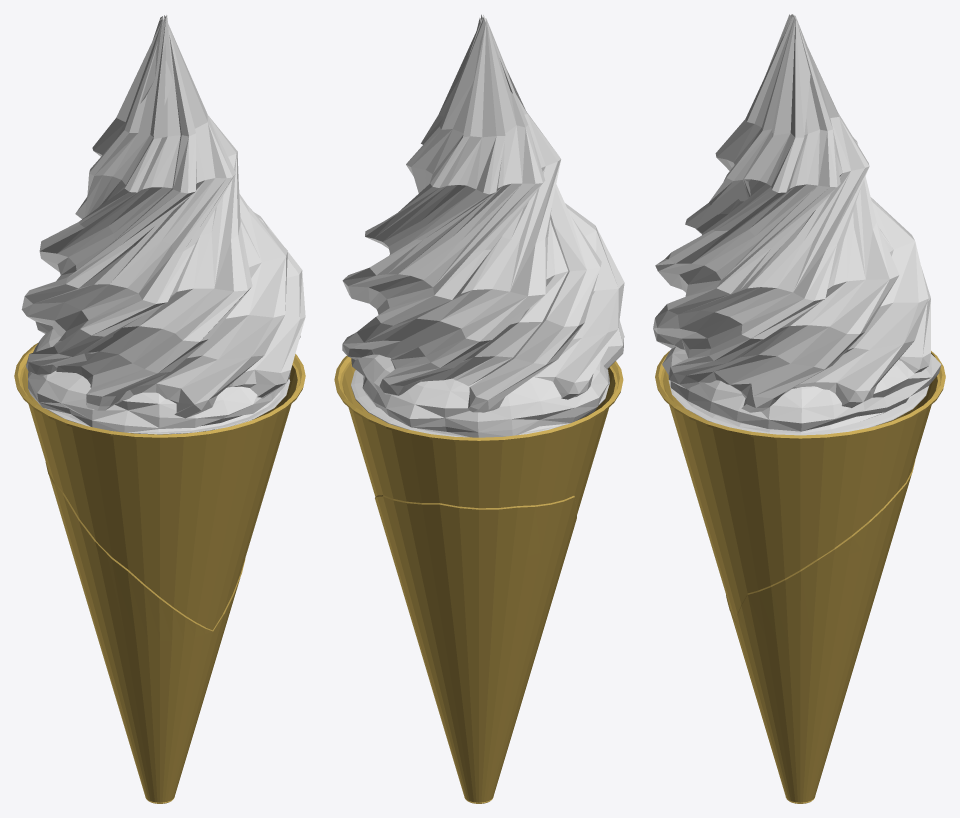
The model's file is Ice Cream.obj.
The picture shows the model from 3 angles, left to right: view 1: azimuth 30°, elevation 25°; view 2: azimuth 150°, elevation 25°; view 3: azimuth 270°, elevation 25°; orthographic projection.
Visible parts, largest first — view 1: Scoop, Cone, cone-01, scoop0; view 2: Scoop, cone-01, Cone, scoop0; view 3: Scoop, Cone, cone-01, scoop0.
Boxes of the visible parts, x1,y1,x2,y2 form: Scoop: (21, 15, 305, 434); Cone: (14, 343, 305, 630); cone-01: (45, 462, 245, 803); scoop0: (28, 329, 290, 434); Scoop: (342, 14, 624, 412); cone-01: (375, 495, 576, 803); Cone: (334, 356, 623, 514); scoop0: (351, 354, 609, 437); Scoop: (653, 14, 930, 412); Cone: (655, 351, 945, 621); cone-01: (726, 460, 915, 803); scoop0: (662, 346, 941, 435).
Size of the model in its own units: 67.47 by 201 by 67.91.
